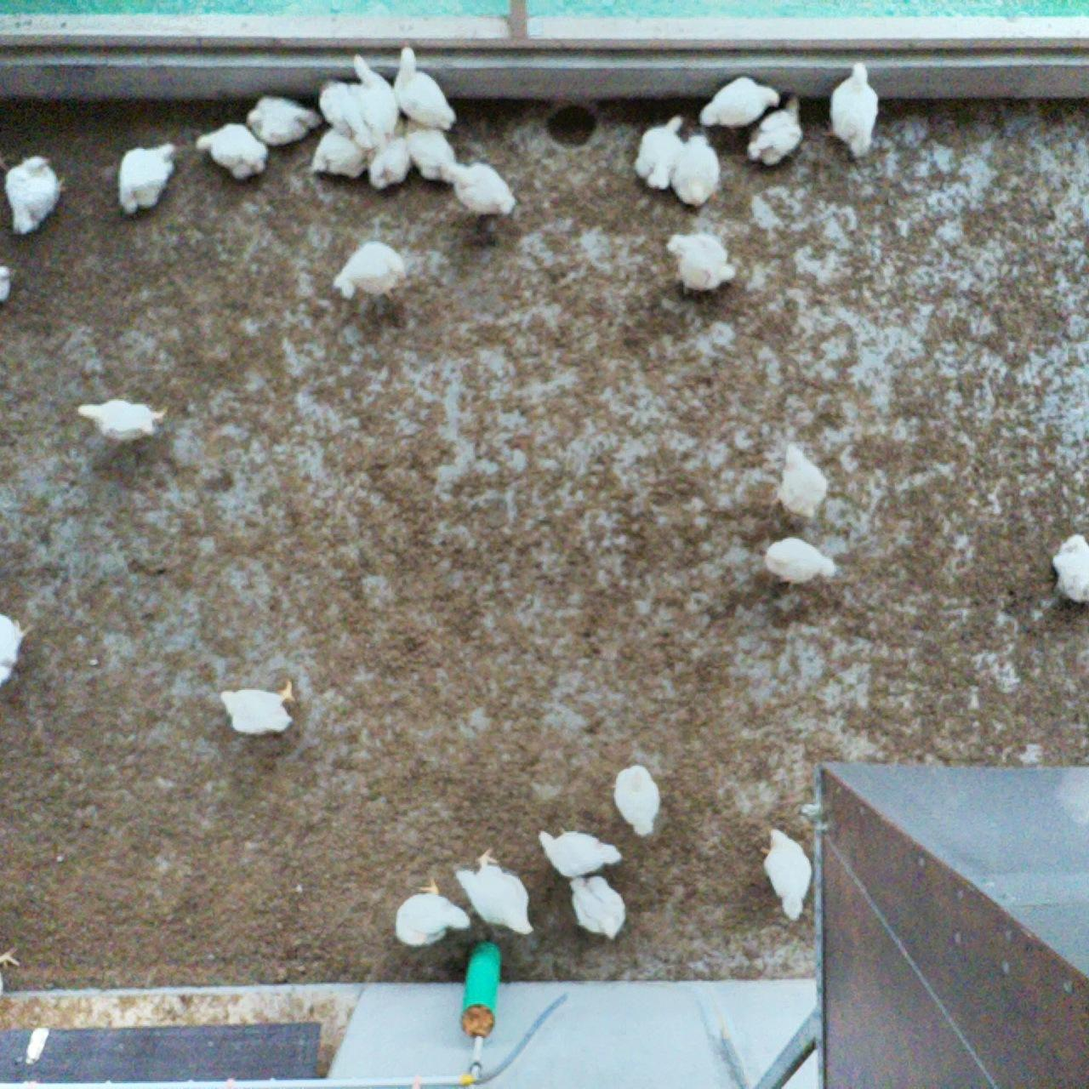chicken: (449, 840, 541, 938), (386, 870, 475, 950), (819, 59, 886, 164), (392, 39, 462, 134), (212, 674, 303, 742), (1, 152, 70, 241), (755, 825, 817, 924), (72, 389, 172, 450), (330, 235, 413, 308), (763, 440, 833, 522), (112, 139, 181, 222), (660, 228, 737, 301), (347, 53, 406, 147), (741, 92, 810, 170), (697, 75, 785, 133), (564, 871, 628, 949), (440, 156, 519, 219), (192, 120, 271, 183), (242, 91, 324, 150), (603, 765, 667, 839), (535, 824, 626, 876), (632, 113, 688, 195), (760, 534, 838, 592), (669, 131, 723, 213), (403, 115, 465, 186), (318, 78, 372, 149), (1044, 531, 1089, 607), (0, 605, 36, 698), (310, 126, 369, 182), (366, 132, 416, 192)
